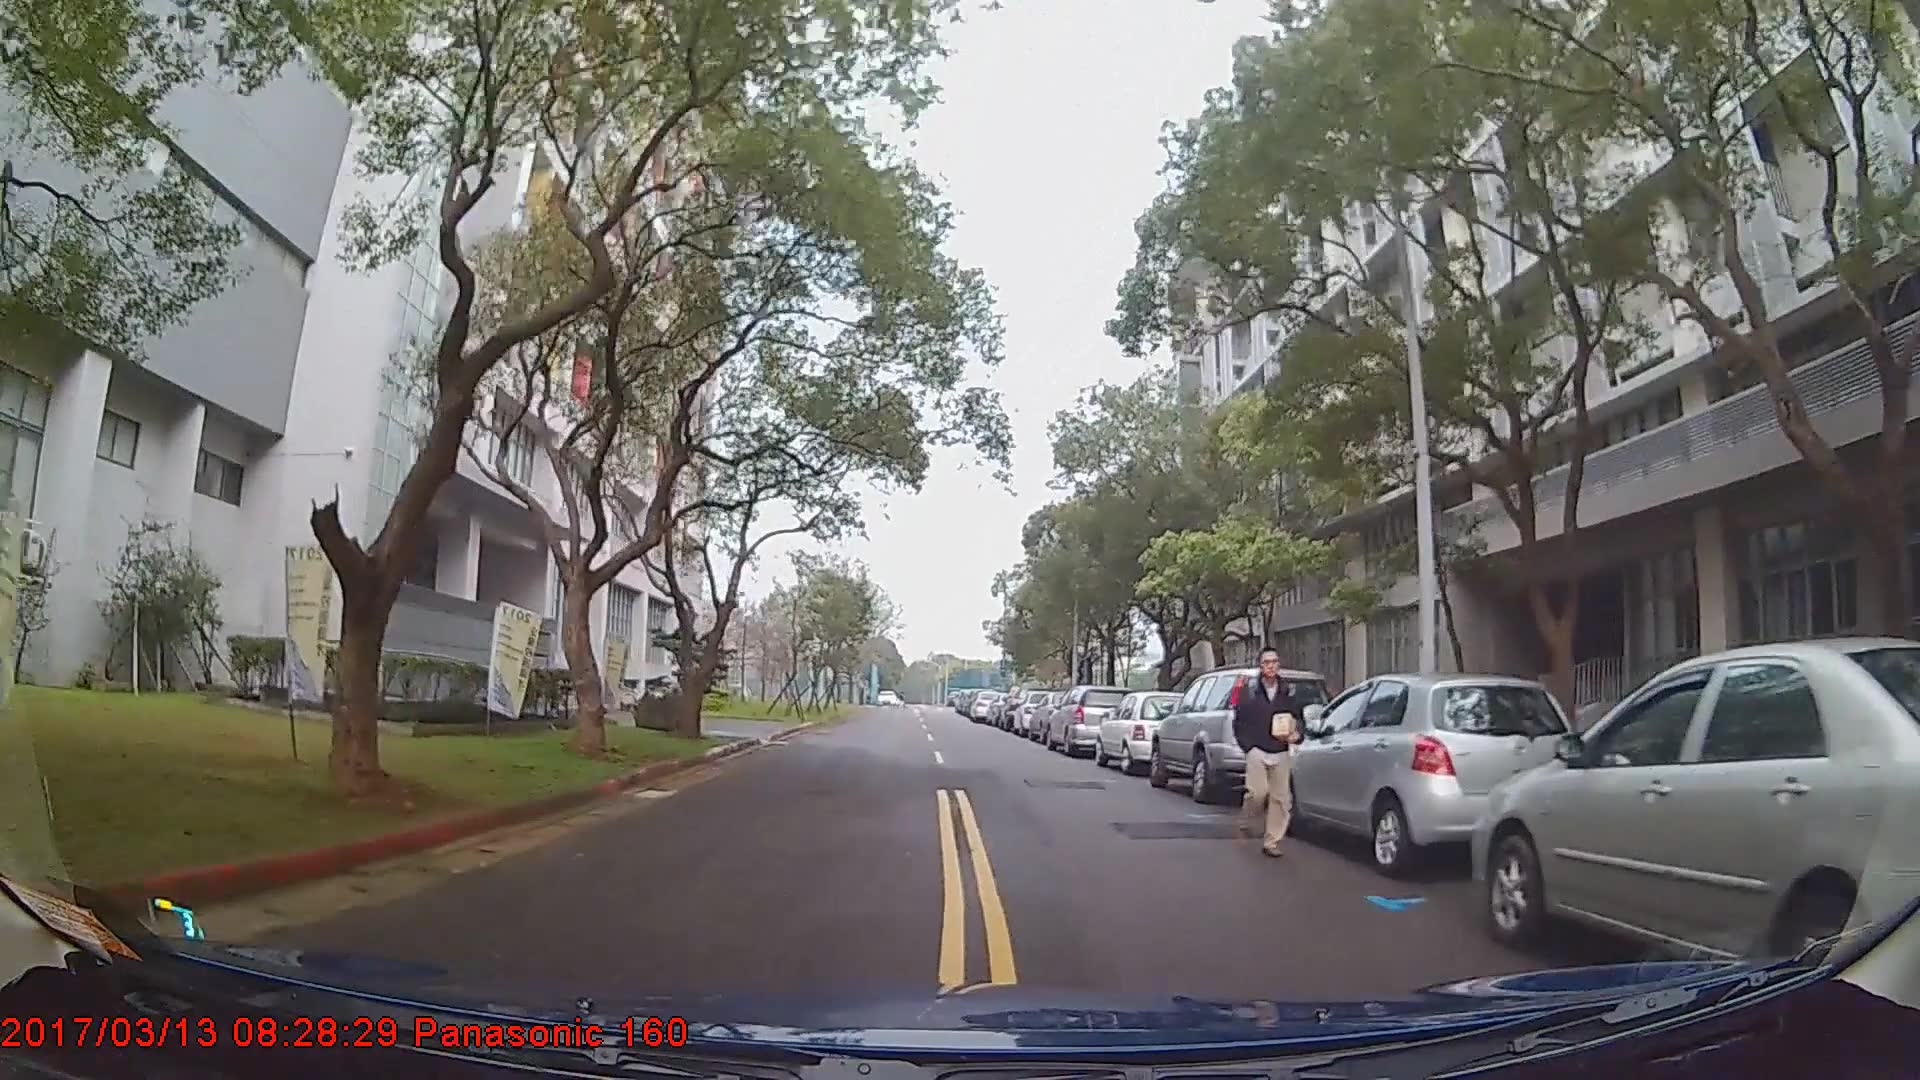pedestrian: (1231, 651, 1309, 861)
vehicle: (1470, 633, 1920, 996), (1266, 666, 1575, 878), (1147, 668, 1339, 802), (1092, 691, 1196, 773), (1045, 685, 1135, 758), (968, 689, 1004, 724)
